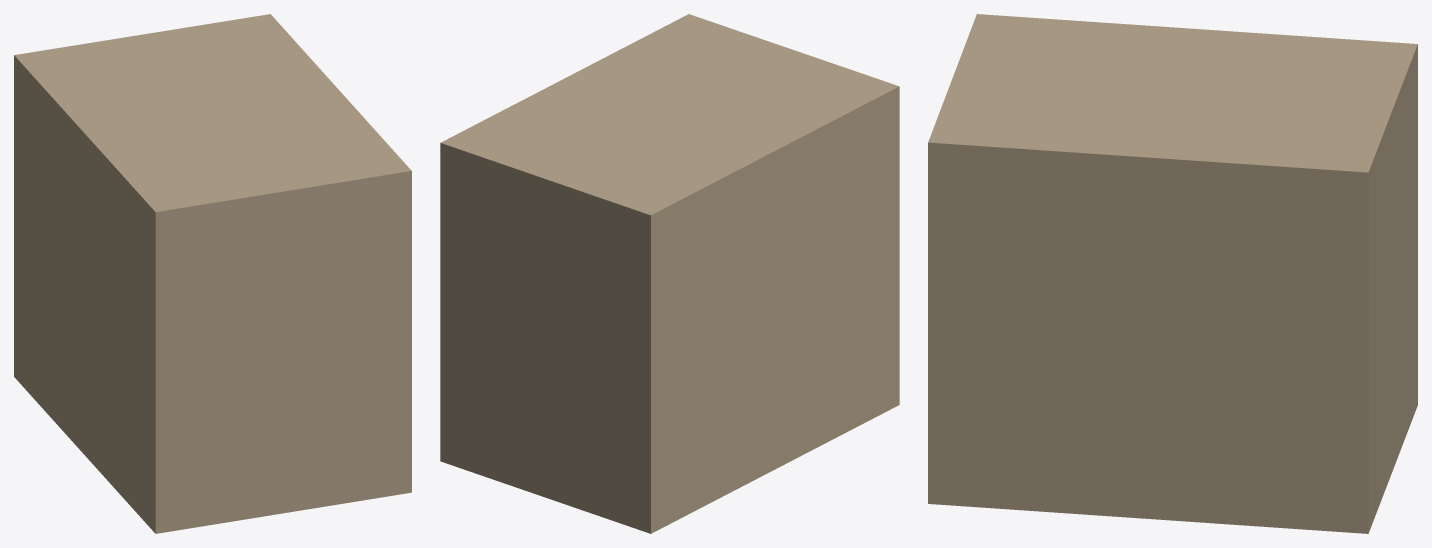
File: bld_1388224746.dae
3 renders of one model, left to right at view 1: azimuth 30°, elevation 25°; view 2: azimuth 150°, elevation 25°; view 3: azimuth 270°, elevation 25°, orthographic. The views are drawn at different scales.
Parts seen in each view (by area): view 1: bld_1388224746; view 2: bld_1388224746; view 3: bld_1388224746.
Part boxes in pixels (bbox=[...]): bld_1388224746: bbox=[14, 14, 411, 533]; bld_1388224746: bbox=[440, 14, 899, 533]; bld_1388224746: bbox=[928, 14, 1417, 533].
Bounding box in the file's own units: 7.53 × 9.83 × 8.
